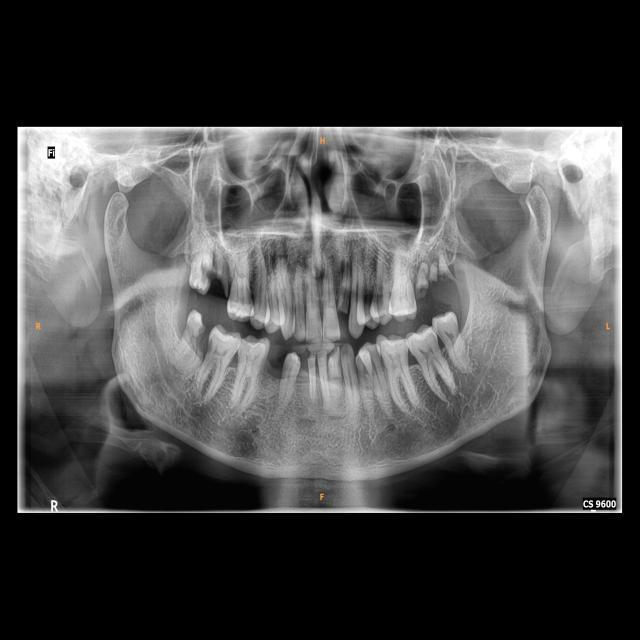dentin-curugu: (189, 314, 209, 356), (197, 259, 212, 283)
kirik: (212, 264, 230, 298), (429, 266, 455, 284), (416, 274, 430, 301)
